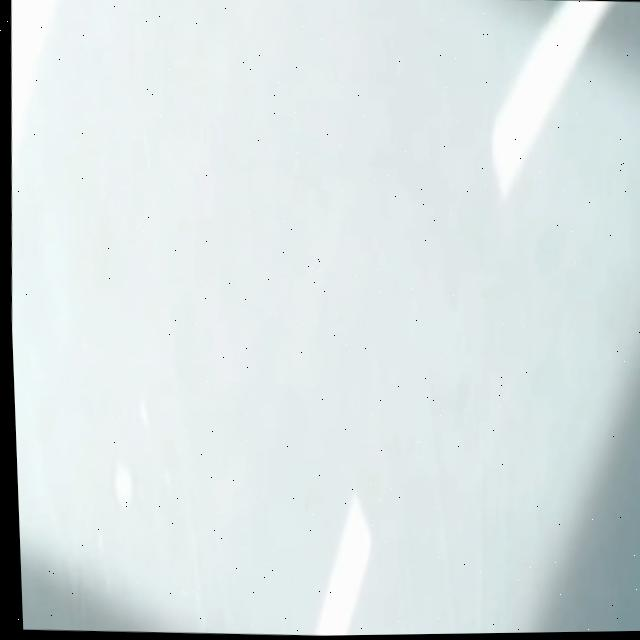center: (492, 0, 614, 196), (315, 495, 371, 635)
